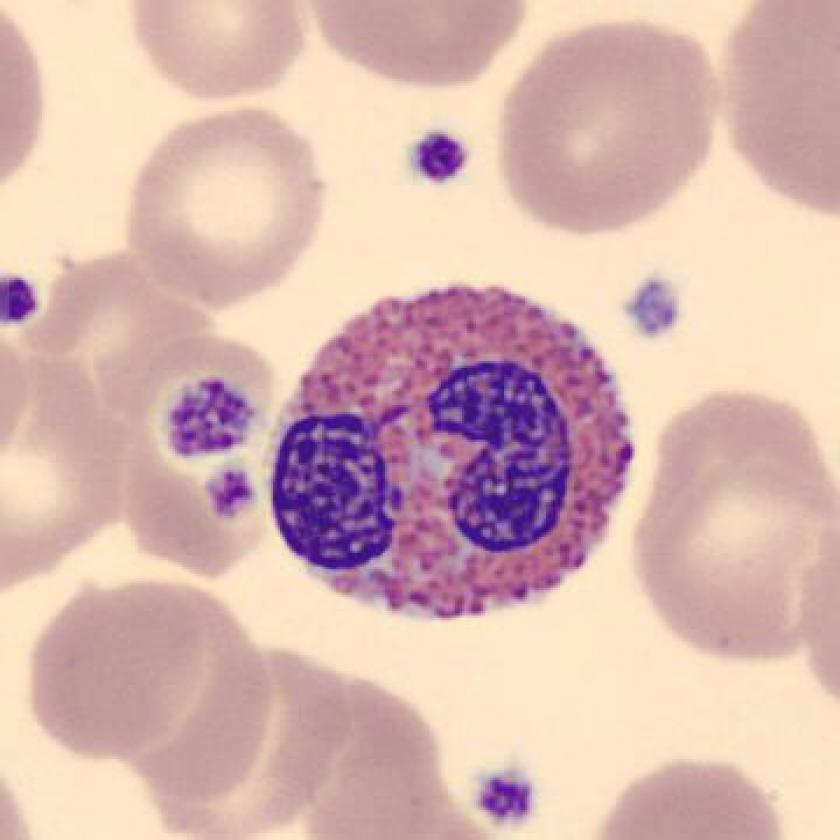eosinophil: (251, 267, 654, 635)
